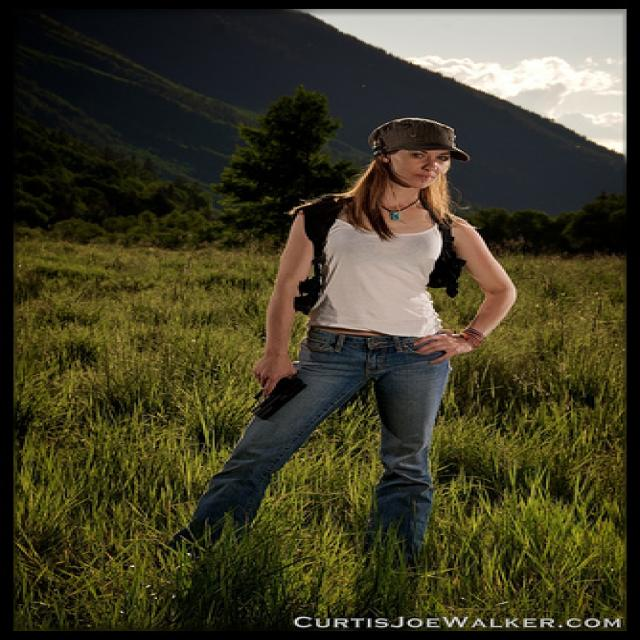gun: (242, 366, 308, 415)
